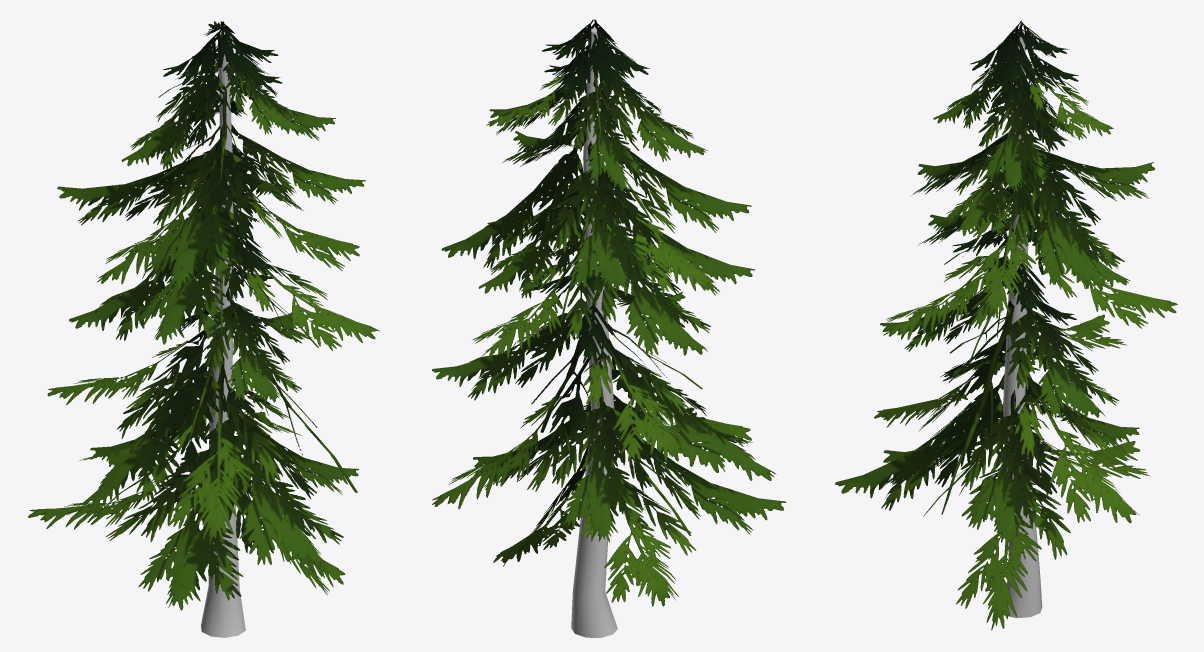
Rendered from testarbrev2.fbx.
3 views of the same model, side by side, from view 1: azimuth 30°, elevation 25°; view 2: azimuth 150°, elevation 25°; view 3: azimuth 270°, elevation 25° (orthographic). The views are drawn at different scales.
Visible parts, largest first — view 1: Branches002.005, Tree_bark002.005; view 2: Branches002.005, Tree_bark002.005; view 3: Branches002.005, Tree_bark002.005.
Boxes of the visible parts, box(x1,y1,x2,y2) form: Branches002.005: box(28, 21, 379, 610); Tree_bark002.005: box(201, 31, 245, 637); Branches002.005: box(432, 19, 786, 606); Tree_bark002.005: box(571, 28, 617, 637); Branches002.005: box(835, 20, 1177, 630); Tree_bark002.005: box(1003, 30, 1042, 618).
Size of the model in its own units: 311 by 597 by 333.
